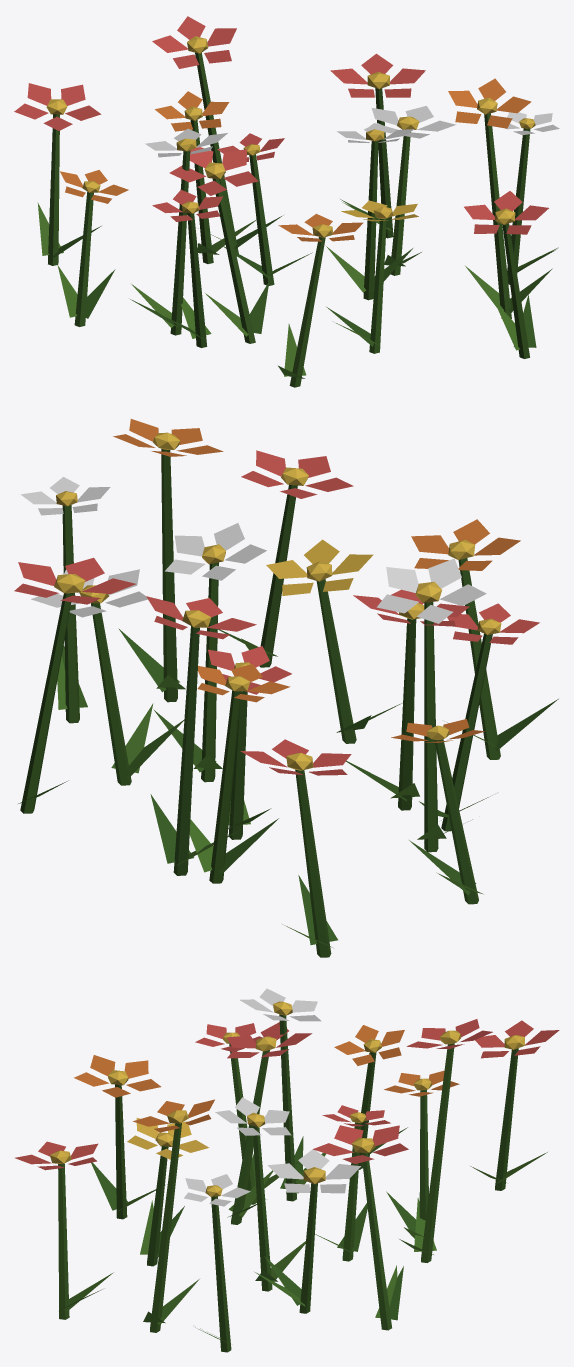
File: flowers_warm.glb
3 views of the same model, one above another, from view 1: azimuth 30°, elevation 25°; view 2: azimuth 150°, elevation 25°; view 3: azimuth 270°, elevation 25° (orthographic). The views are drawn at different scales.
Parts seen in each view (by area): view 1: flowers_warm; view 2: flowers_warm; view 3: flowers_warm.
Boxes of the visible parts, x1=… form: flowers_warm: x1=14, y1=16, x2=559, y2=387; flowers_warm: x1=14, y1=419, x2=558, y2=957; flowers_warm: x1=15, y1=988, x2=559, y2=1352.
Bounding box in the file's own units: 0.9459 × 0.4727 × 1.04.
